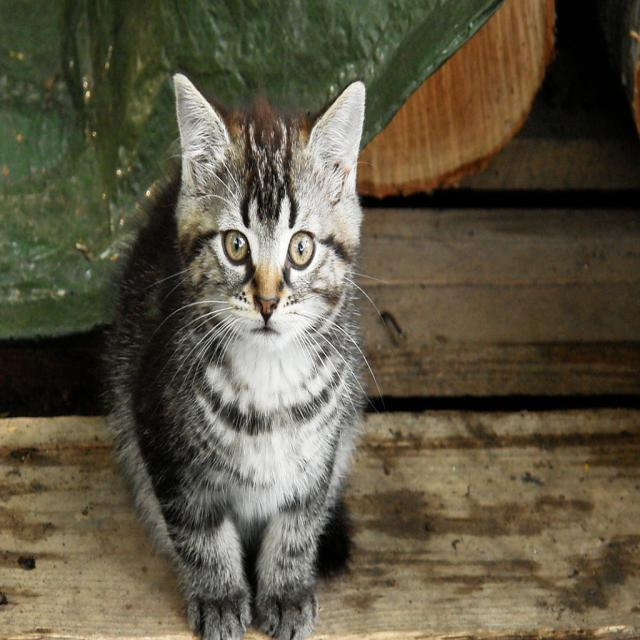cat: (103, 71, 385, 639)
